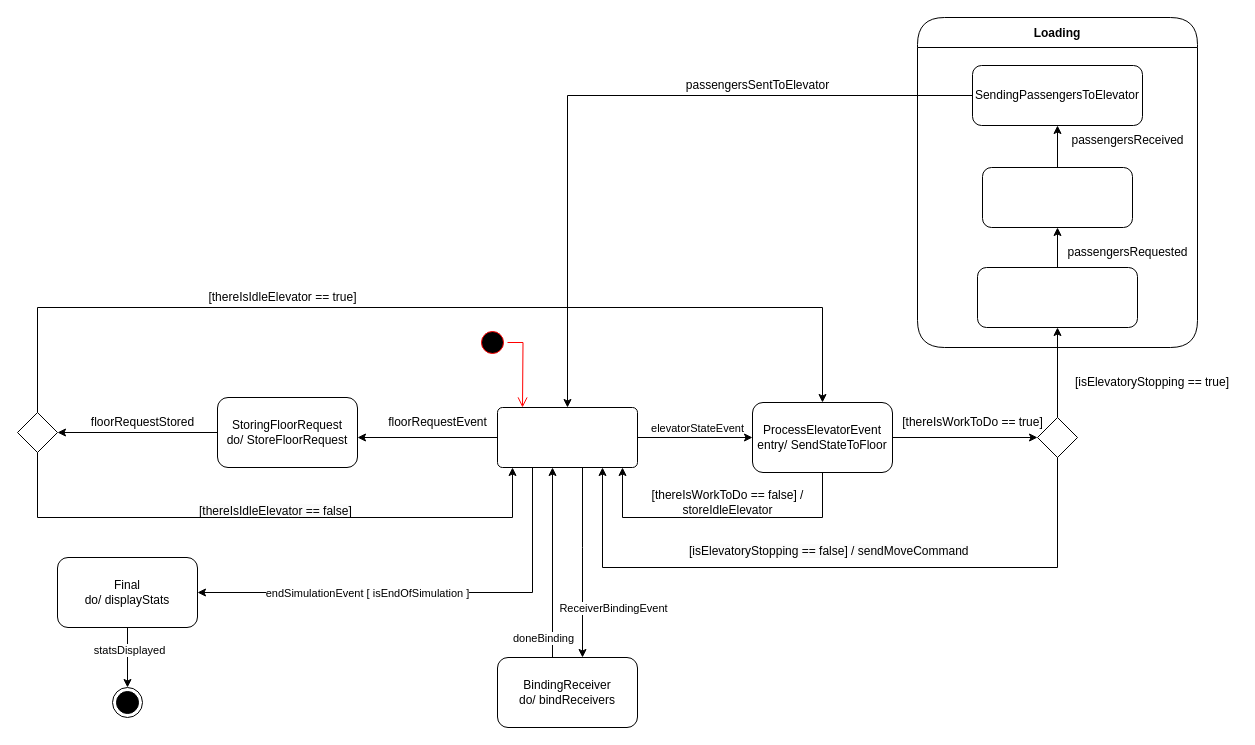
This 1255x745 diagram has some shape labels left out. The centre of each missing label's shape, as x and y in pixels:
ReceivePassengers: (1057,197)
Receiving do/ receive: (567,437)
RequestingPassengers: (1057,297)
